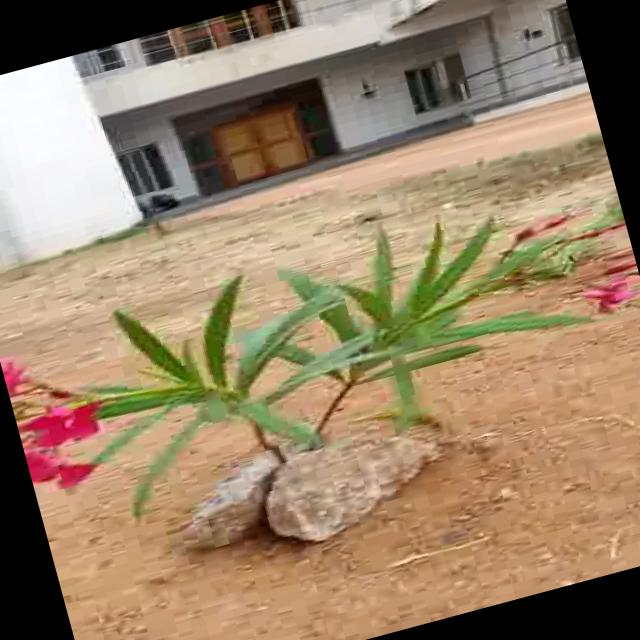Oleander: (0, 92, 640, 501)
